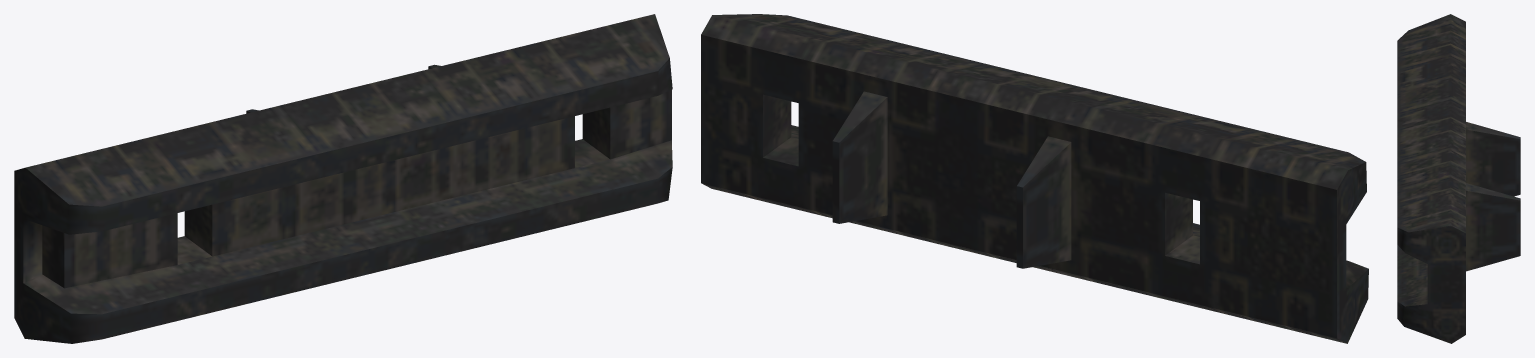
The model's file is Gg_26_800_300_track1_L.glb.
The picture shows the model from 3 angles, left to right: view 1: azimuth 30°, elevation 25°; view 2: azimuth 150°, elevation 25°; view 3: azimuth 270°, elevation 25°; orthographic projection. The views are drawn at different scales.
Visible parts, largest first — view 1: set_0_group_0; view 2: set_0_group_0; view 3: set_0_group_0.
Boxes of the visible parts, box(x1,y1,x2,y2) form: set_0_group_0: box(14, 14, 672, 343); set_0_group_0: box(701, 14, 1368, 343); set_0_group_0: box(1397, 14, 1520, 343).
Bounding box in the file's own units: 0.8 × 0.2083 × 0.1966.
Materials: 1 (1 with a texture image).
